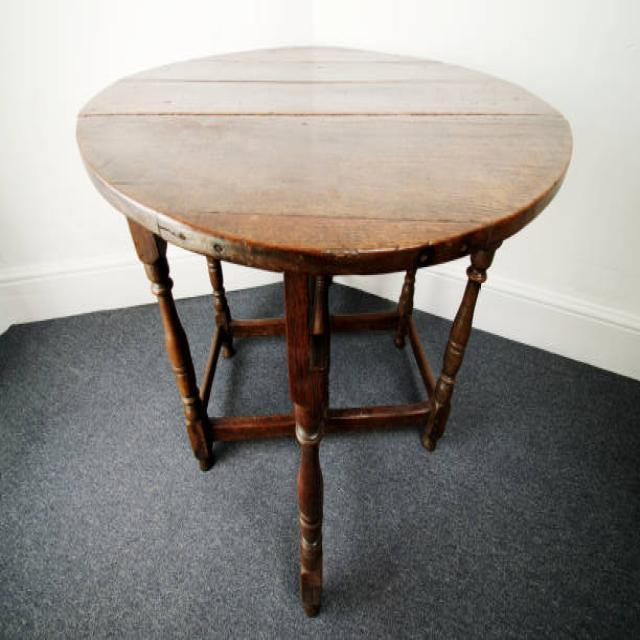table: (74, 43, 573, 616)
